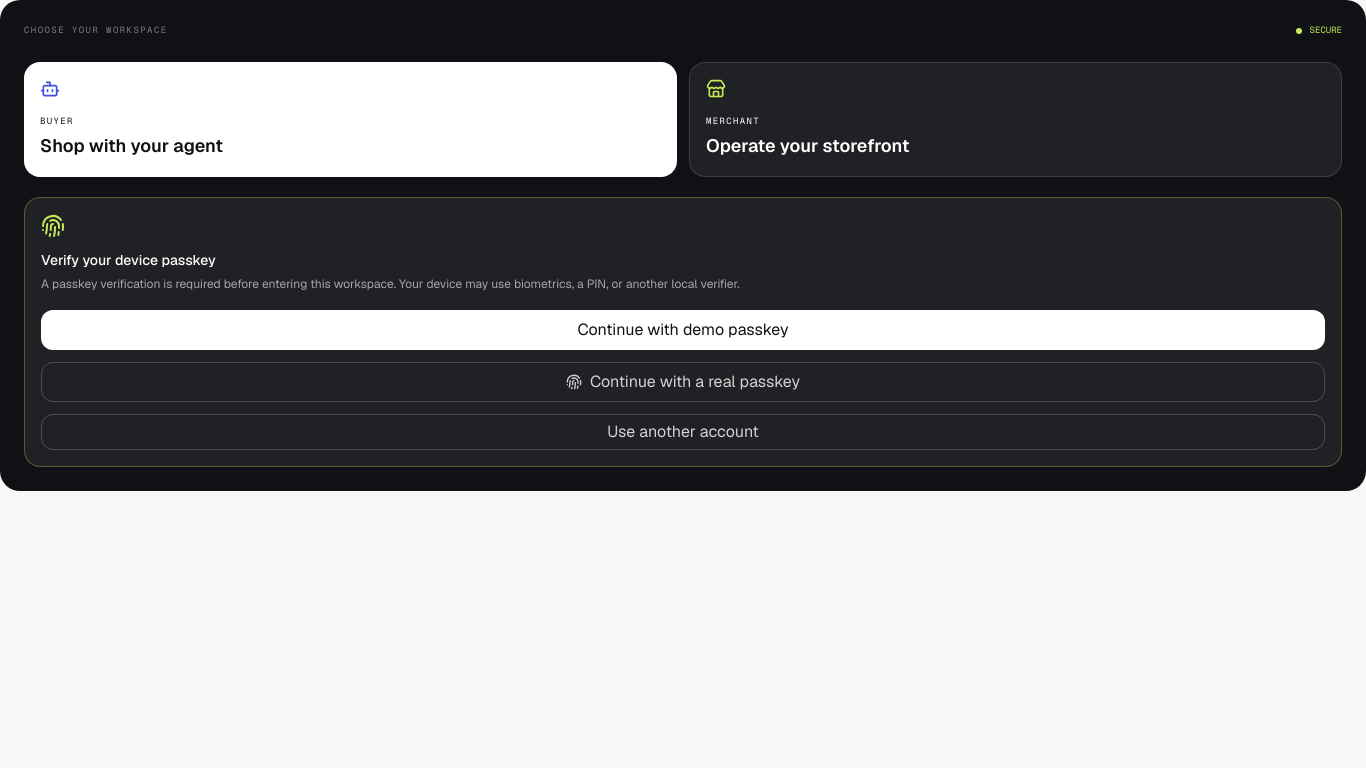
workspace authentication › lets an existing session switch to another account
What coordinates should you click on to do the following:
click the button "Use another account"
I would click on:
 (683, 432)
Its box is [41,414,1325,450].
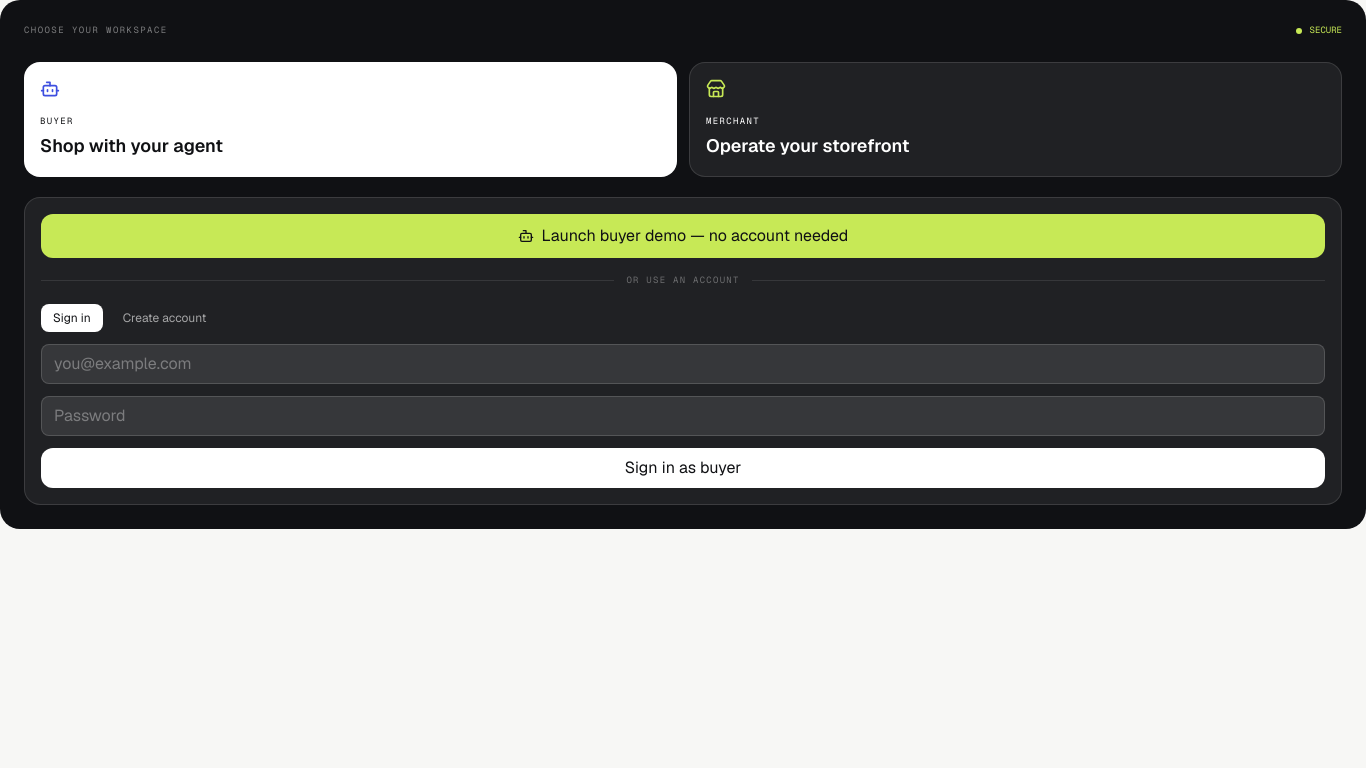
Now the button "Sign in as buyer" is shown, box [41,448,1325,488]
